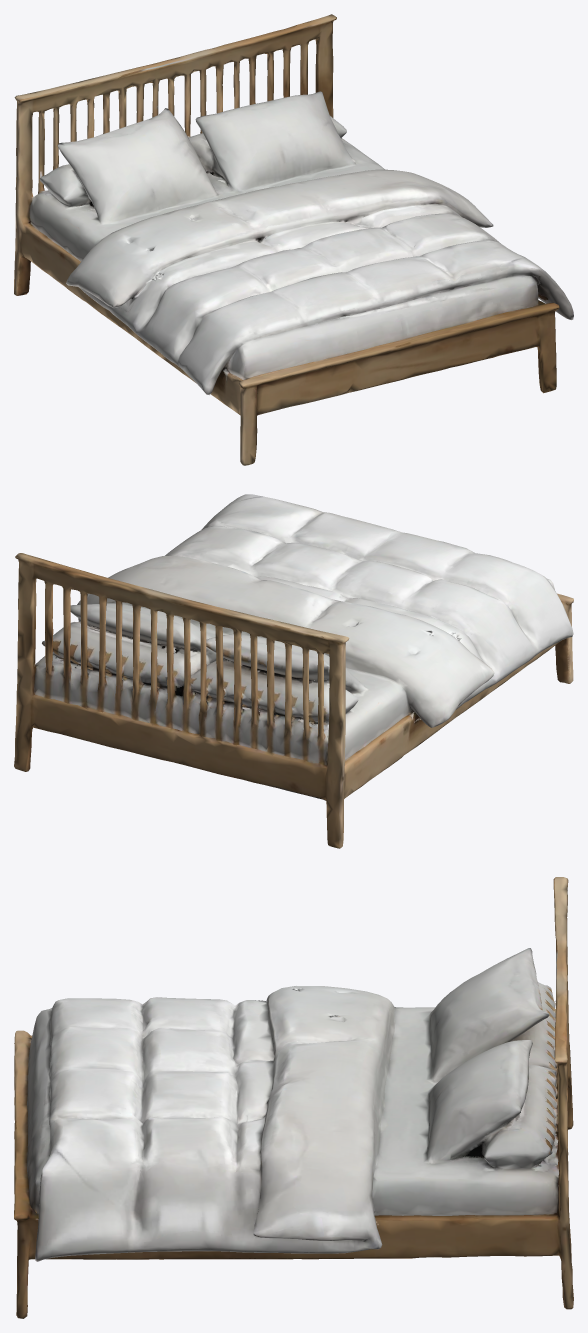
3 renders of one model, top to bottom at view 1: azimuth 30°, elevation 25°; view 2: azimuth 150°, elevation 25°; view 3: azimuth 270°, elevation 25°, orthographic. The views are drawn at different scales.
Visible parts, largest first — view 1: Mesh_0; view 2: Mesh_0; view 3: Mesh_0.
Boxes of the visible parts, x1=… form: Mesh_0: x1=14, y1=14, x2=573, y2=465; Mesh_0: x1=14, y1=494, x2=573, y2=848; Mesh_0: x1=14, y1=877, x2=573, y2=1318.
Bounding box in the file's own units: 1.88 × 1 × 1.96.
Materials: 1 (1 with a texture image).
